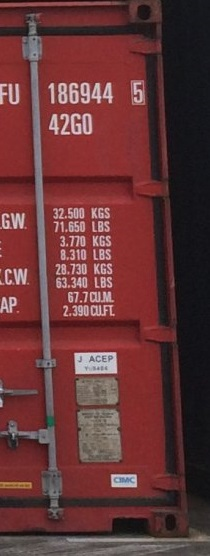container_door: (5, 3, 190, 543)
